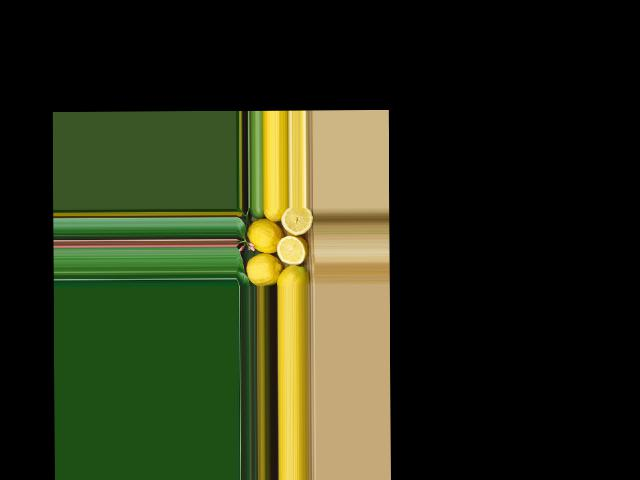lemon: (273, 260, 308, 286)
